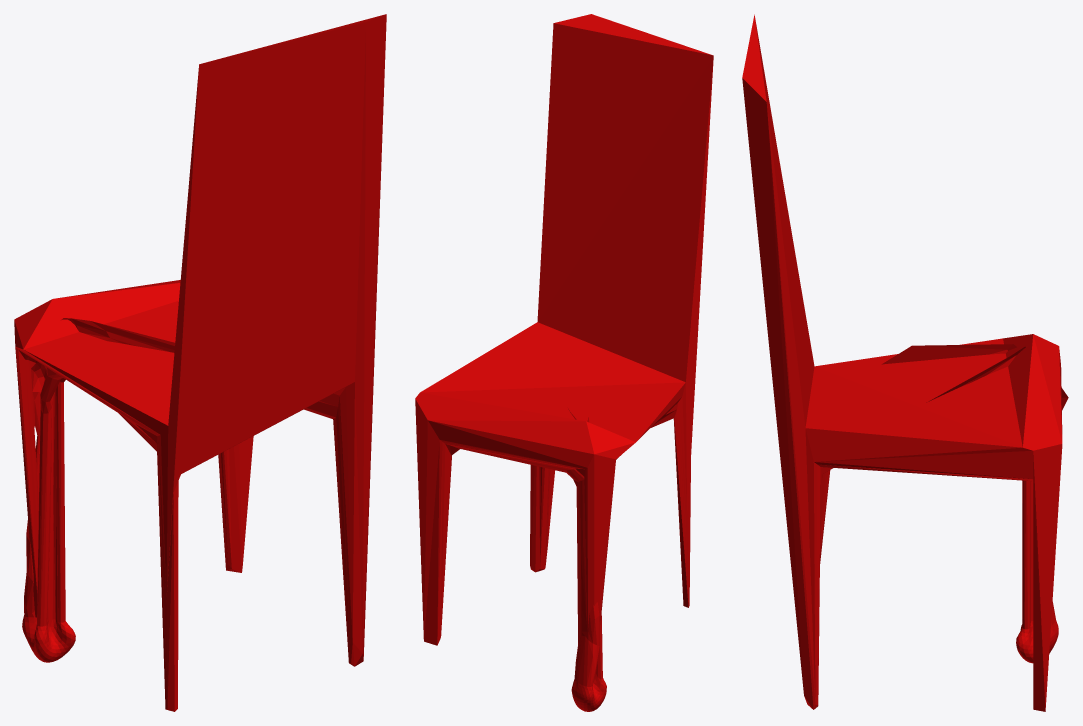
3 renders of one model, left to right at view 1: azimuth 30°, elevation 25°; view 2: azimuth 150°, elevation 25°; view 3: azimuth 270°, elevation 25°, orthographic. The views are drawn at different scales.
Parts seen in each view (by area): view 1: chair_out.obj_FTDEDLQXBDGP; view 2: chair_out.obj_FTDEDLQXBDGP; view 3: chair_out.obj_FTDEDLQXBDGP.
Part boxes in pixels (bbox=[...]): chair_out.obj_FTDEDLQXBDGP: bbox=[14, 14, 386, 711]; chair_out.obj_FTDEDLQXBDGP: bbox=[415, 14, 713, 711]; chair_out.obj_FTDEDLQXBDGP: bbox=[742, 14, 1068, 711].
Size of the model in its own units: 0.3784 by 0.9967 by 0.4514.
